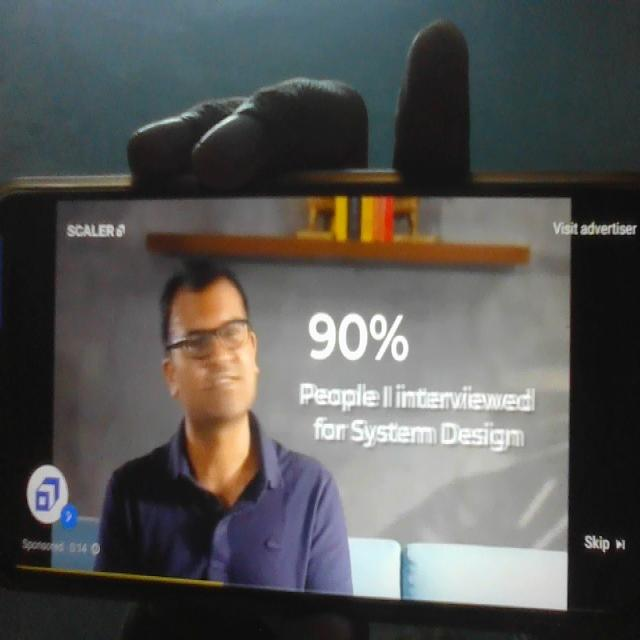fake: (157, 233, 268, 444)
